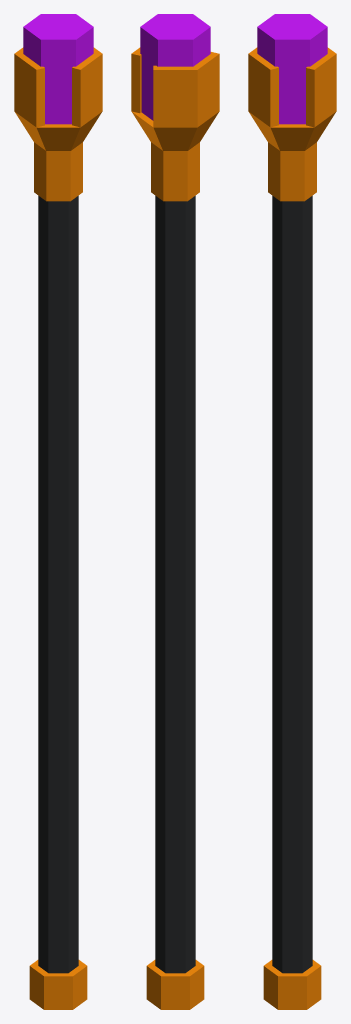
Rendered from PurpleKingBaston.fbx.
3 renders of one model, left to right at view 1: azimuth 90°, elevation 25°; view 2: azimuth 210°, elevation 25°; view 3: azimuth 270°, elevation 25°, orthographic.
Visible parts, largest first — view 1: KingBaston; view 2: KingBaston; view 3: KingBaston.
Part boxes in pixels (box(x1,y1,x2,y2)): KingBaston: box(14, 14, 102, 1009); KingBaston: box(131, 14, 219, 1009); KingBaston: box(248, 14, 336, 1009).
Bounding box in the file's own units: 0.0811 × 1.14 × 0.0936.
